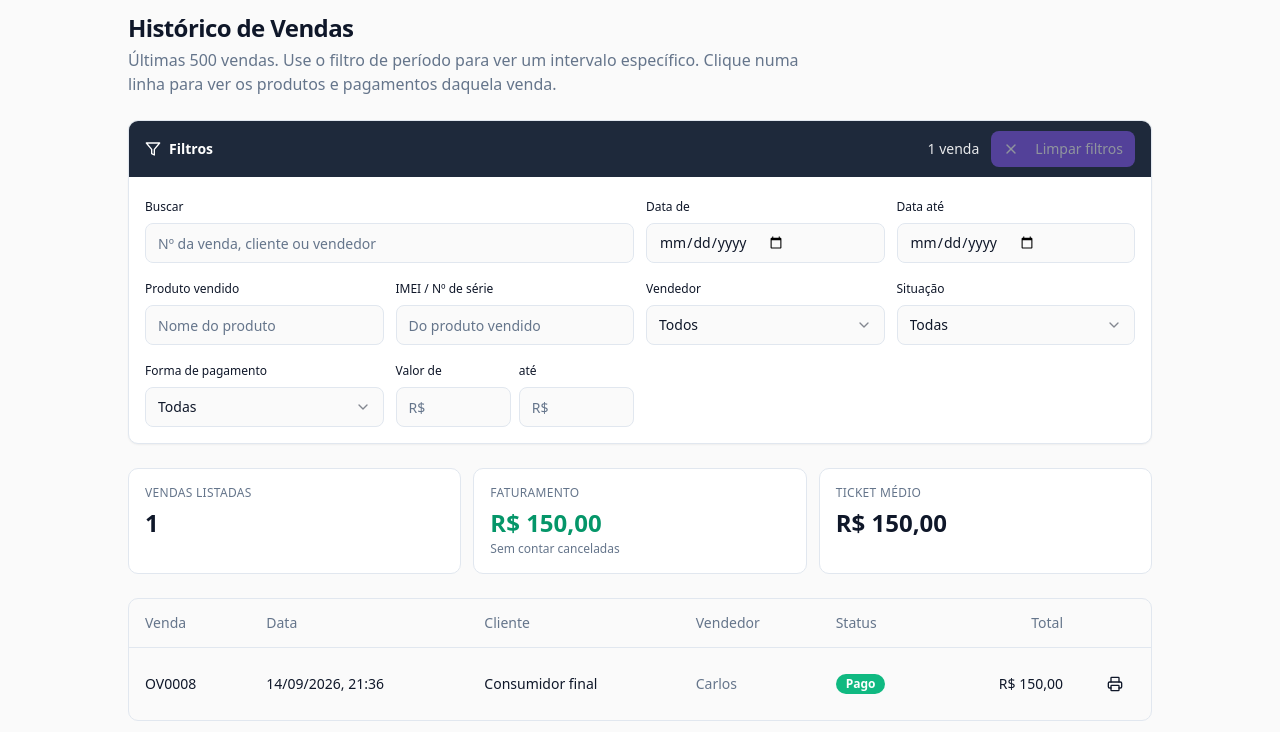
Test: Histórico de Vendas: filtros › o período vai ao banco no horário da loja, com fim na meia-noite seguinte
Expected: the text "OV0008" is shown, x1=129 y1=647 x2=250 y2=720
In the date field labelled "Data de": [765, 243] box x1=646 y1=223 x2=884 y2=263, type "2026-09-14"
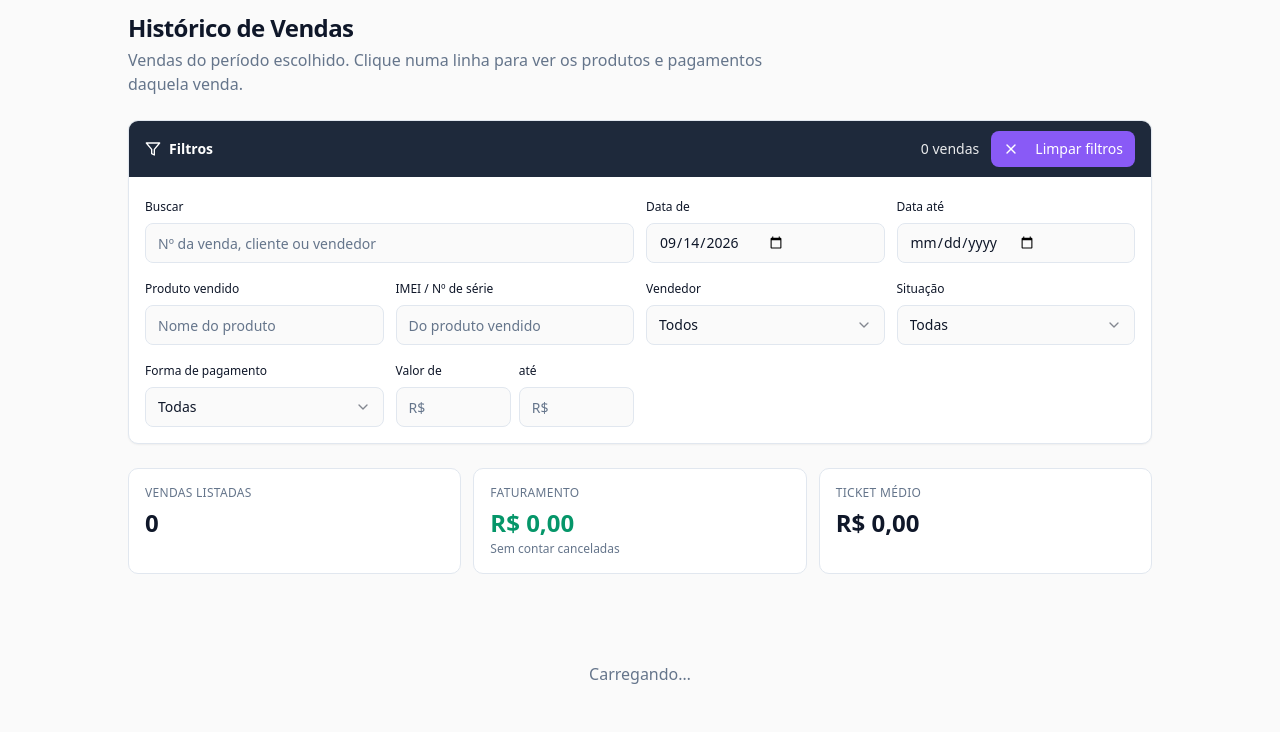
In the date field labelled "Data até": [1016, 243] box x1=896 y1=223 x2=1135 y2=263, type "2026-09-14"
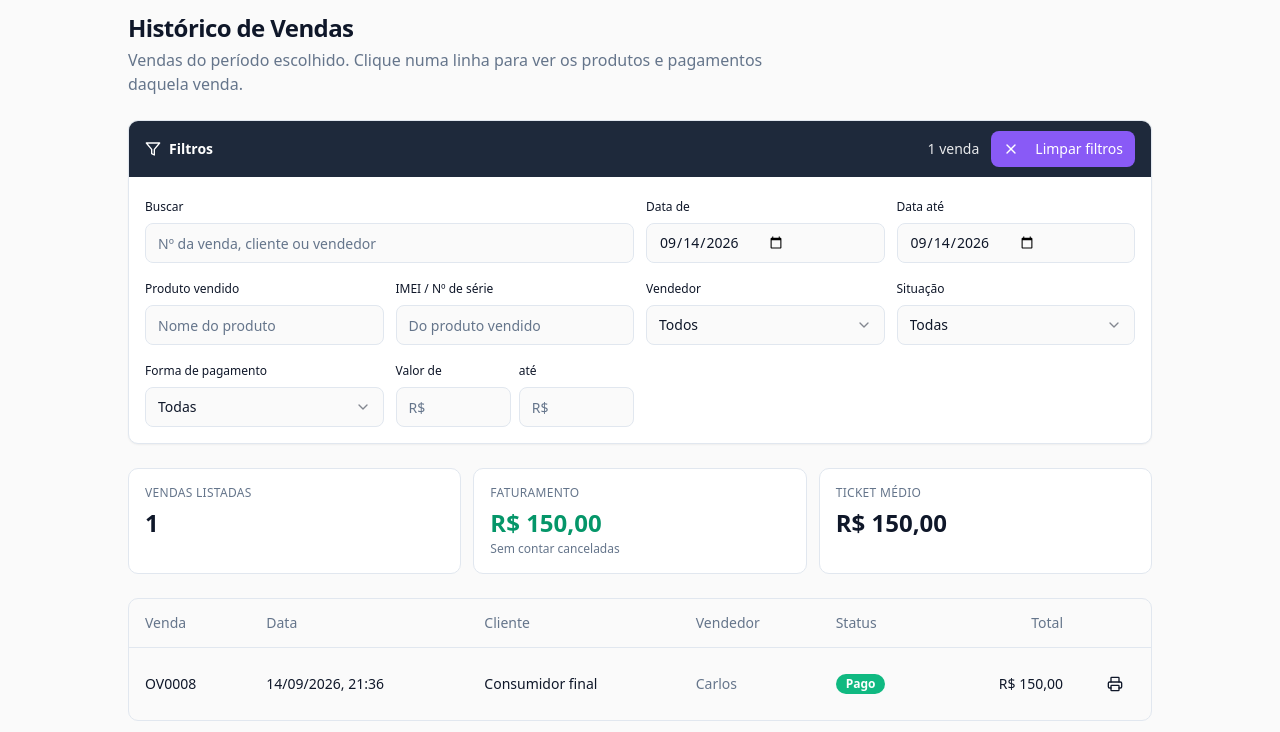
Now the text "OV0008" is shown, box x1=129 y1=647 x2=250 y2=720
